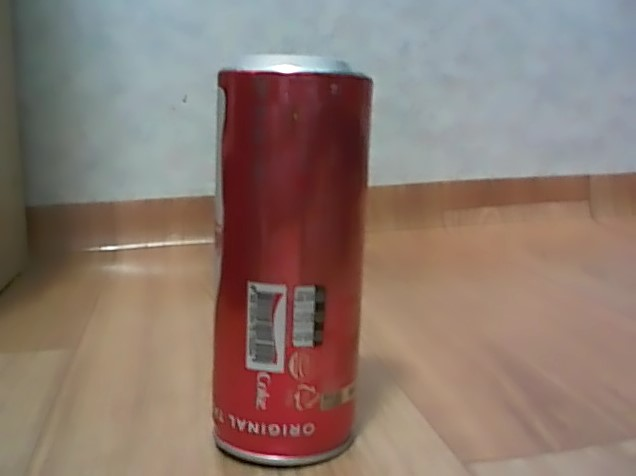Can: (205, 44, 376, 471)
